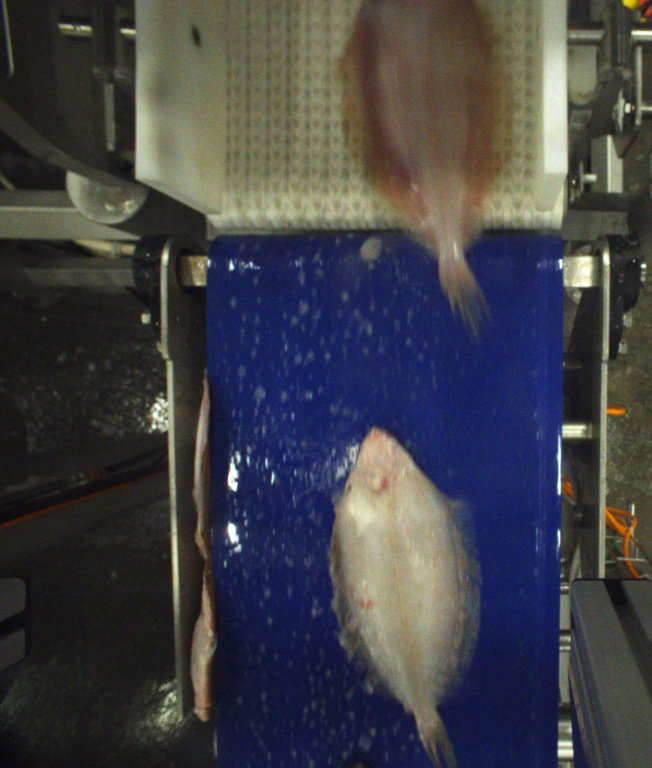WIT: (343, 0, 505, 341)
